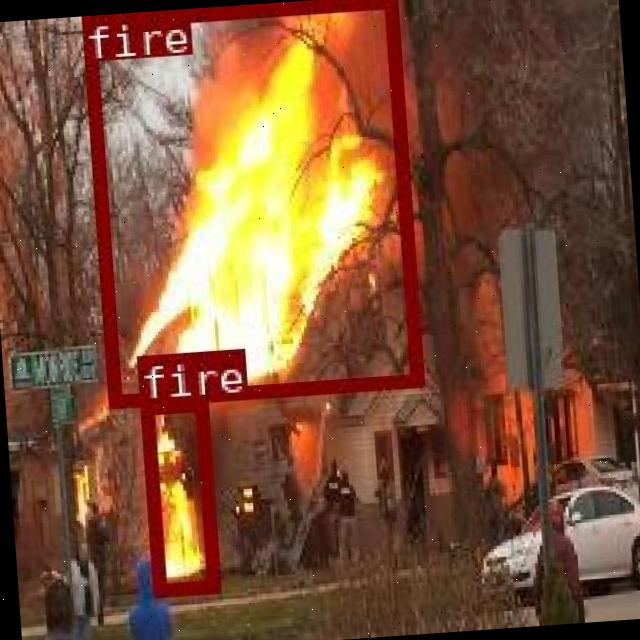fire: (78, 0, 421, 404), (138, 396, 218, 594)
